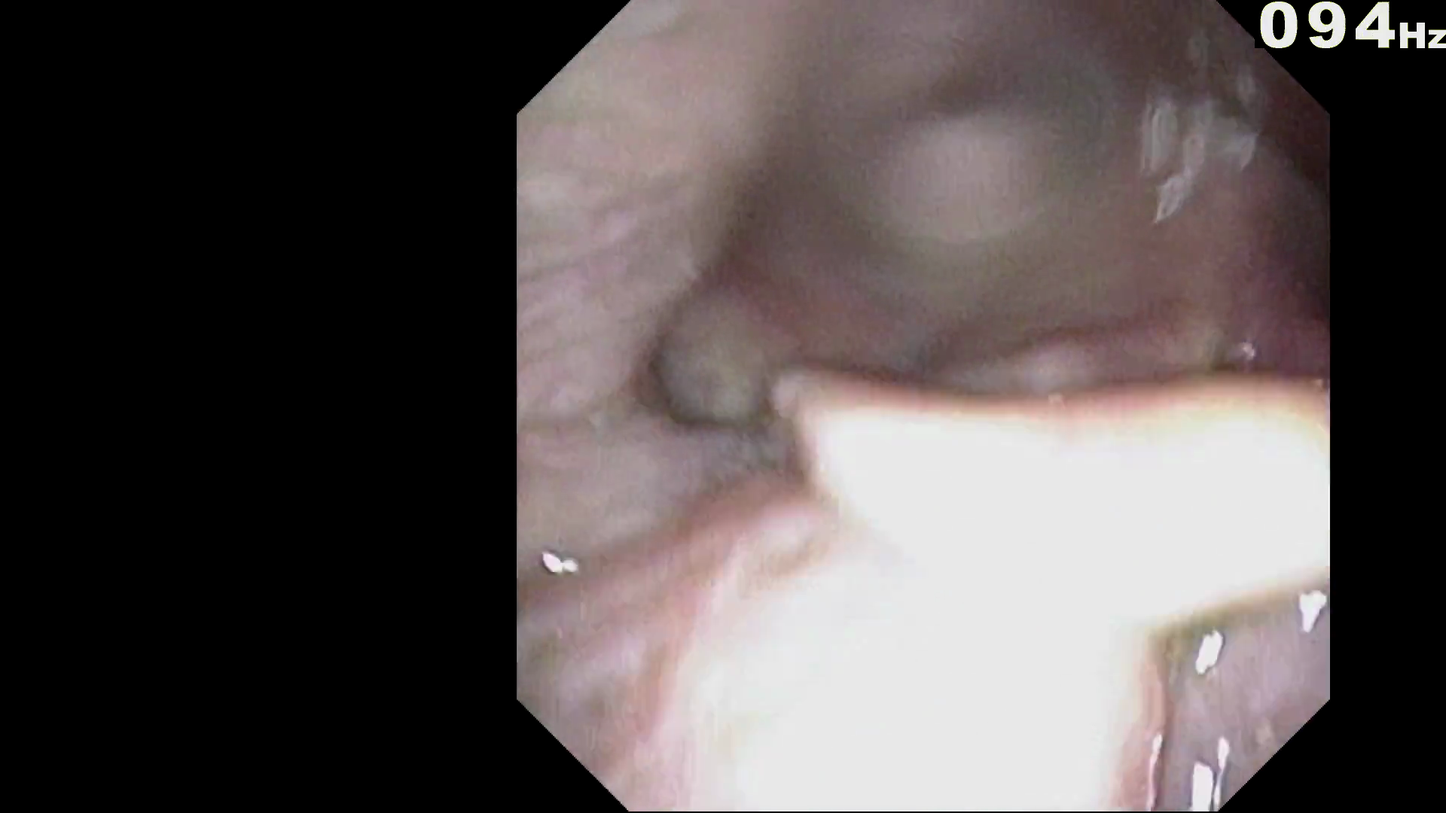epiglottis: (805, 438, 1305, 663)
trachea: (1075, 392, 1177, 477)
